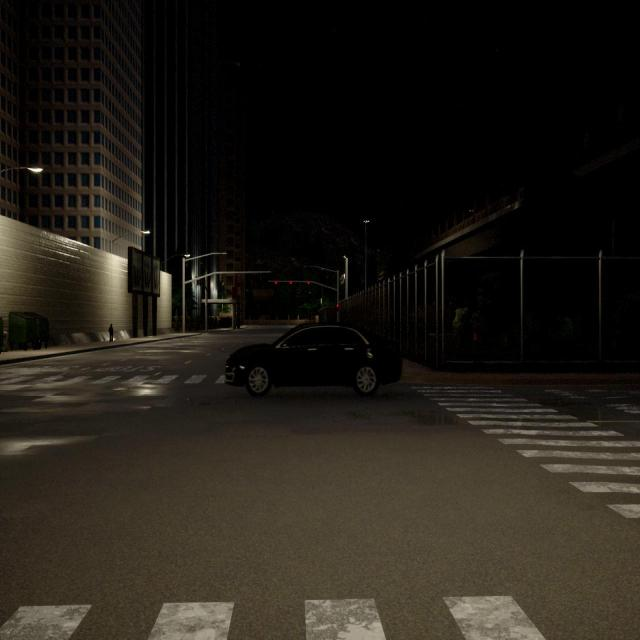Pedestrian: (108, 322, 114, 343)
Vehicle: (225, 324, 401, 396)
traffic_light: (340, 276, 343, 284), (342, 274, 344, 282), (275, 281, 277, 284), (290, 281, 292, 284), (337, 304, 339, 307), (308, 282, 310, 284)
